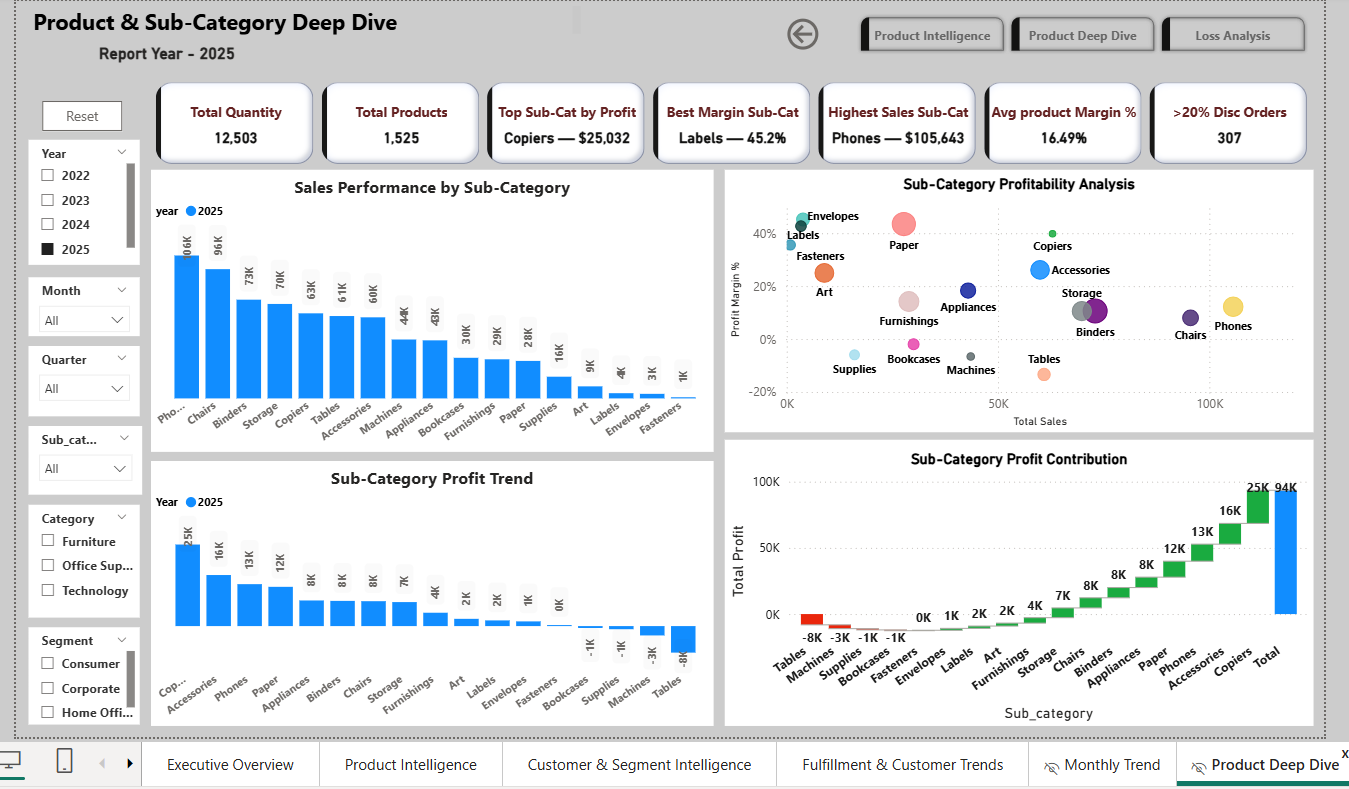

This screenshot's page, from the dashboard's own definition file:
{"tool":"powerbi","page":{"name":"Product Deep Dive","canvas":[1280,720],"ordinal":5},"visuals":[{"type":"textbox","box":[12,0,545.1,37.8],"z":0},{"type":"card","fields":{"Values":["_Measure_customerKPI.Dynamic Year Title"]},"box":[28.1,30.6,239.7,44],"z":1000},{"type":"cardVisual","fields":{"Data":["All_Basic_Measures.Total Quantity","_Measure_productKPIs.Total Products","_Measure_productKPIs.Top Product by Profit","_Measure_productKPIs.Best Margin Sub-Cat","_Measure_productKPIs.Highest Sales Sub-Cat","_Measure_productKPIs.Avg Product Margin","_Measure_productKPIs.High Discount Products"]},"box":[132.1,74.6,1137.2,90.5],"z":2000},{"type":"slicer","fields":{"Values":["sales_analytics date_dim.year"]},"box":[12,135.7,108.8,122.3],"z":3000},{"type":"slicer","fields":{"Values":["sales_analytics date_dim.month_name"]},"box":[12,270.2,108.8,57.5],"z":4000},{"type":"slicer","fields":{"Values":["Customer.segment"]},"box":[12,612.6,108.8,95.4],"z":5000},{"type":"slicer","fields":{"Values":["Product.Category"]},"box":[12,492.8,108.8,110.1],"z":6000},{"type":"clusteredColumnChart","title":"Sales Performance by Sub-Category","fields":{"Category":["sales_analytics product_dim.Sub_category"],"Series":["Date.year"],"Y":["All_Basic_Measures.Total Sales"]},"box":[132.1,165.1,550.3,276.4],"z":7000},{"type":"lineClusteredColumnComboChart","title":"Sub-Category Profit Trend","fields":{"Category":["sales_analytics product_dim.Sub_category"],"Series":["sales_analytics date_dim.year"],"Y":["All_Basic_Measures.Total Profit"]},"box":[132.1,450,550.3,259.2],"z":8000},{"type":"pageNavigator","box":[823,12.2,441.4,40.4],"z":9000},{"type":"slicer","fields":{"Values":["Date_Table.Quarter"]},"box":[12,337.5,108.8,68.5],"z":10000},{"type":"slicer","fields":{"Values":["Product.Sub_category"]},"box":[12,415.8,111.3,67.3],"z":11000},{"type":"actionButton","box":[749.6,12.2,64.8,40.4],"z":12000},{"type":"scatterChart","title":"Sub-Category Profitability Analysis","fields":{"Series":["sales_analytics product_dim.Sub_category"],"X":["All_Basic_Measures.Total Sales"],"Y":["_Measures_Financial.Profit Margin %"],"Size":["All_Basic_Measures.Total Orders"]},"box":[693.3,165.1,576,256.8],"z":13000},{"type":"waterfallChart","title":"Sub-Category Profit Contribution","fields":{"Category":["sales_analytics product_dim.Sub_category"],"Y":["All_Basic_Measures.Total Profit"]},"box":[693.3,429.2,576,280],"z":14000},{"type":"actionButton","box":[25.7,97.8,78.3,29.3],"z":15000}]}

Visuals, with their boxes on the page's 1280x720 design canvas (x1, y1, x2, y2). These are canvas units, not pixel positions in the 1349x789 screenshot, which may show the page scaled, cropped or inside an application window:
textbox: bbox=(12, 0, 557, 38)
card - _Measure_customerKPI.Dynamic Year Title: bbox=(28, 31, 268, 75)
cardVisual - All_Basic_Measures.Total Quantity x _Measure_productKPIs.Total Products: bbox=(132, 75, 1269, 165)
slicer - sales_analytics date_dim.year: bbox=(12, 136, 121, 258)
slicer - sales_analytics date_dim.month_name: bbox=(12, 270, 121, 328)
slicer - Customer.segment: bbox=(12, 613, 121, 708)
slicer - Product.Category: bbox=(12, 493, 121, 603)
"Sales Performance by Sub-Category" clusteredColumnChart: bbox=(132, 165, 682, 442)
"Sub-Category Profit Trend" lineClusteredColumnComboChart: bbox=(132, 450, 682, 709)
pageNavigator: bbox=(823, 12, 1264, 53)
slicer - Date_Table.Quarter: bbox=(12, 338, 121, 406)
slicer - Product.Sub_category: bbox=(12, 416, 123, 483)
actionButton: bbox=(750, 12, 814, 53)
"Sub-Category Profitability Analysis" scatterChart: bbox=(693, 165, 1269, 422)
"Sub-Category Profit Contribution" waterfallChart: bbox=(693, 429, 1269, 709)
actionButton: bbox=(26, 98, 104, 127)
